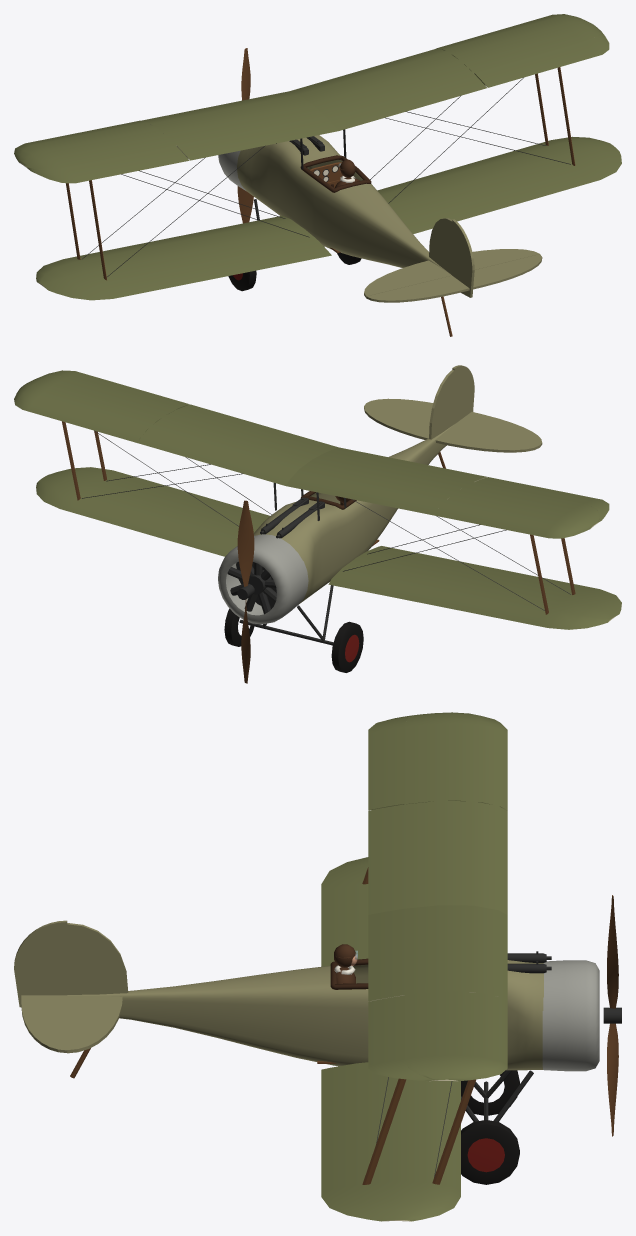
Rendered from sopwith_camel.glb.
3 renders of one model, top to bottom at view 1: azimuth 30°, elevation 25°; view 2: azimuth 150°, elevation 25°; view 3: azimuth 270°, elevation 25°, orthographic. The views are drawn at different scales.
Visible parts, largest first — view 1: Wing_Lower_L, Wing_Upper_R, Wing_Upper_L, Fuselage, Wing_Lower_R, Elevator, Aileron_R, Aileron_L, Wires, Struts, Stabilizer_L, Rudder (+6 smaller); view 2: Wing_Upper_R, Wing_Upper_L, Wing_Lower_L, Wing_Lower_R, Fuselage, Cowling, Elevator, Wheels, PropBlades, Stabilizer_L, Struts, Stabilizer_R (+8 smaller); view 3: Wing_Upper_L, Wing_Upper_R, Fuselage, Wing_Lower_R, Cowling, Wing_Lower_L, Wheels, Fin, Rudder, Aileron_L, Aileron_R, Stabilizer_R (+6 smaller).
Boxes of the visible parts, left/top/right/bottom form: Wing_Lower_L: left=36, top=215, right=331, bottom=300; Wing_Upper_R: left=290, top=14, right=599, bottom=130; Wing_Upper_L: left=14, top=91, right=338, bottom=169; Fuselage: left=237, top=135, right=450, bottom=274; Wing_Lower_R: left=377, top=136, right=621, bottom=234; Elevator: left=366, top=254, right=542, bottom=302; Aileron_R: left=474, top=29, right=609, bottom=87; Aileron_L: left=28, top=146, right=189, bottom=183; Wires: left=82, top=77, right=570, bottom=277; Struts: left=66, top=67, right=575, bottom=280; Stabilizer_L: left=364, top=260, right=451, bottom=298; Rudder: left=452, top=219, right=474, bottom=297; Wing_Upper_R: left=14, top=375, right=338, bottom=485; Wing_Upper_L: left=286, top=447, right=599, bottom=538; Wing_Lower_L: left=328, top=546, right=621, bottom=629; Wing_Lower_R: left=36, top=467, right=269, bottom=556; Fuselage: left=241, top=425, right=452, bottom=604; Cowling: left=218, top=534, right=308, bottom=624; Elevator: left=367, top=398, right=542, bottom=446; Wheels: left=224, top=608, right=363, bottom=672; PropBlades: left=237, top=500, right=254, bottom=683; Stabilizer_L: left=435, top=424, right=539, bottom=452; Struts: left=62, top=421, right=575, bottom=614; Stabilizer_R: left=364, top=403, right=430, bottom=439; Wing_Upper_L: left=368, top=712, right=507, bottom=914; Wing_Upper_R: left=368, top=905, right=507, bottom=1081; Fuselage: left=67, top=960, right=543, bottom=1070; Wing_Lower_R: left=321, top=1062, right=460, bottom=1221; Cowling: left=542, top=960, right=599, bottom=1071; Wing_Lower_L: left=321, top=857, right=368, bottom=966; Wheels: left=461, top=1070, right=519, bottom=1184; Fin: left=67, top=923, right=128, bottom=994; Rudder: left=14, top=920, right=67, bottom=1007; Aileron_L: left=368, top=714, right=417, bottom=810; Aileron_R: left=368, top=995, right=435, bottom=1081; Stabilizer_R: left=67, top=995, right=122, bottom=1053.
Size of the model in its own units: 8.53 by 2.81 by 5.98.
